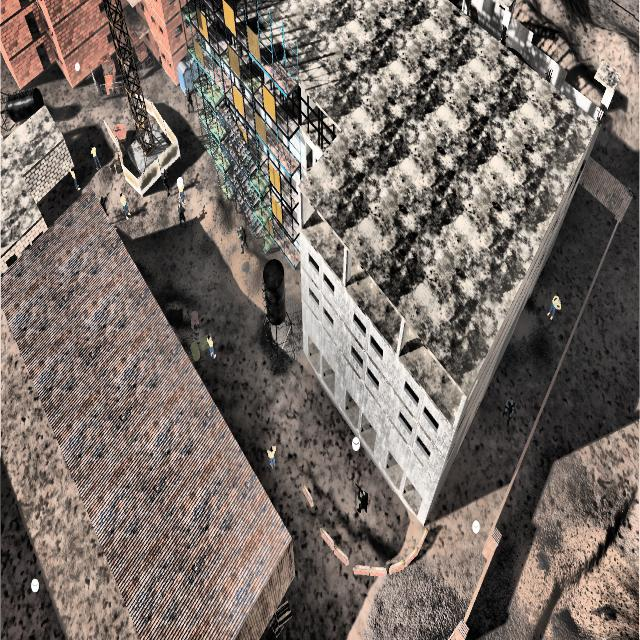bad: (351, 474, 372, 526), (502, 389, 520, 435), (234, 219, 250, 261), (174, 202, 188, 233), (160, 163, 171, 201), (184, 84, 194, 116), (98, 188, 109, 215)
good: (546, 283, 564, 331), (65, 161, 84, 199), (116, 189, 134, 227), (264, 439, 280, 475), (87, 134, 102, 172), (202, 331, 220, 362), (174, 171, 188, 202)
